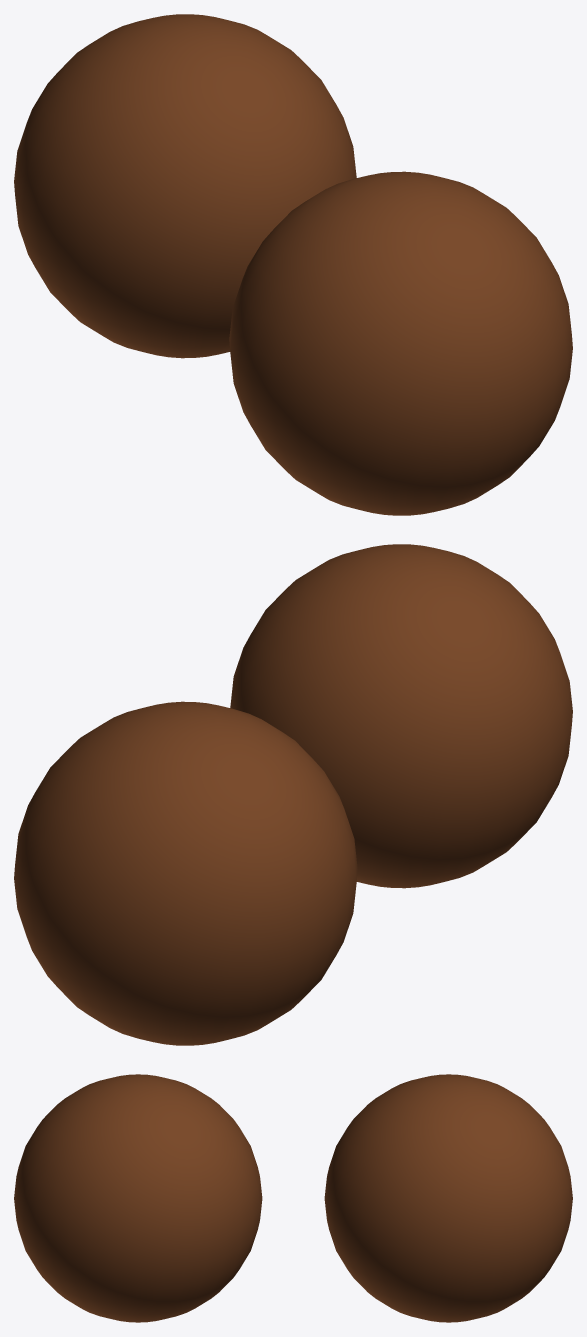
File: KneadedClay2.fbx
The picture shows the model from 3 angles, top to bottom: view 1: azimuth 30°, elevation 25°; view 2: azimuth 150°, elevation 25°; view 3: azimuth 270°, elevation 25°; orthographic projection. The views are drawn at different scales.
Visible parts, largest first — view 1: Sphere, Sphere.001; view 2: Sphere.001, Sphere; view 3: Sphere, Sphere.001.
Part boxes in pixels (x1=…): Sphere: x1=229, y1=171, x2=572, y2=515; Sphere.001: x1=14, y1=14, x2=356, y2=358; Sphere.001: x1=14, y1=701, x2=357, y2=1045; Sphere: x1=230, y1=544, x2=572, y2=888; Sphere: x1=14, y1=1074, x2=262, y2=1322; Sphere.001: x1=324, y1=1074, x2=572, y2=1322.
Size of the model in its own units: 200 by 200 by 450.
